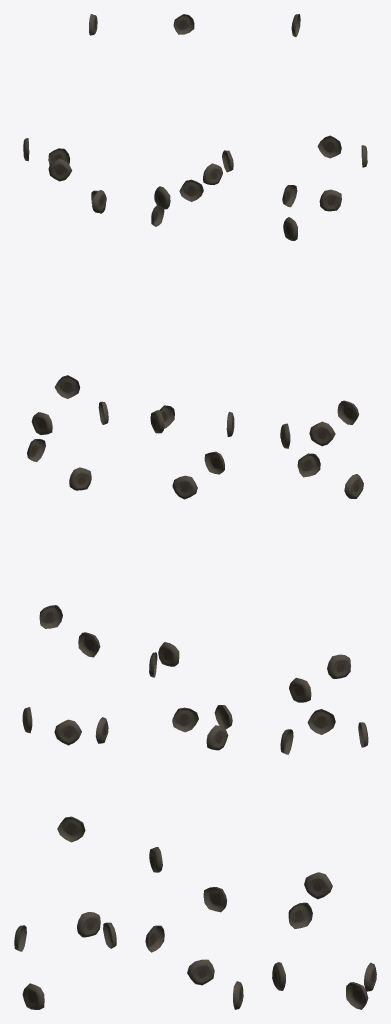
The model's file is Sitka_Pole_01_HighPruned_Healed_LOD2.fbx.
3 views of the same model, side by side, from view 1: azimuth 90°, elevation 25°; view 2: azimuth 210°, elevation 25°; view 3: azimuth 270°, elevation 25° (orthographic). The views are drawn at different scales.
Parts seen in each view (by area): view 1: Sitka_Pole_01_HighPruned_Healed_LOD2_Scars; view 2: Sitka_Pole_01_HighPruned_Healed_LOD2_Scars; view 3: Sitka_Pole_01_HighPruned_Healed_LOD2_Scars.
Boxes of the visible parts, x1,y1,x2,y2 form: Sitka_Pole_01_HighPruned_Healed_LOD2_Scars: [14, 14, 116, 1009]; Sitka_Pole_01_HighPruned_Healed_LOD2_Scars: [145, 14, 243, 1009]; Sitka_Pole_01_HighPruned_Healed_LOD2_Scars: [272, 14, 376, 1009].
Size of what is drawn, in the model's own units: 14.13 by 166 by 15.66.
2 materials, 2 textured.
